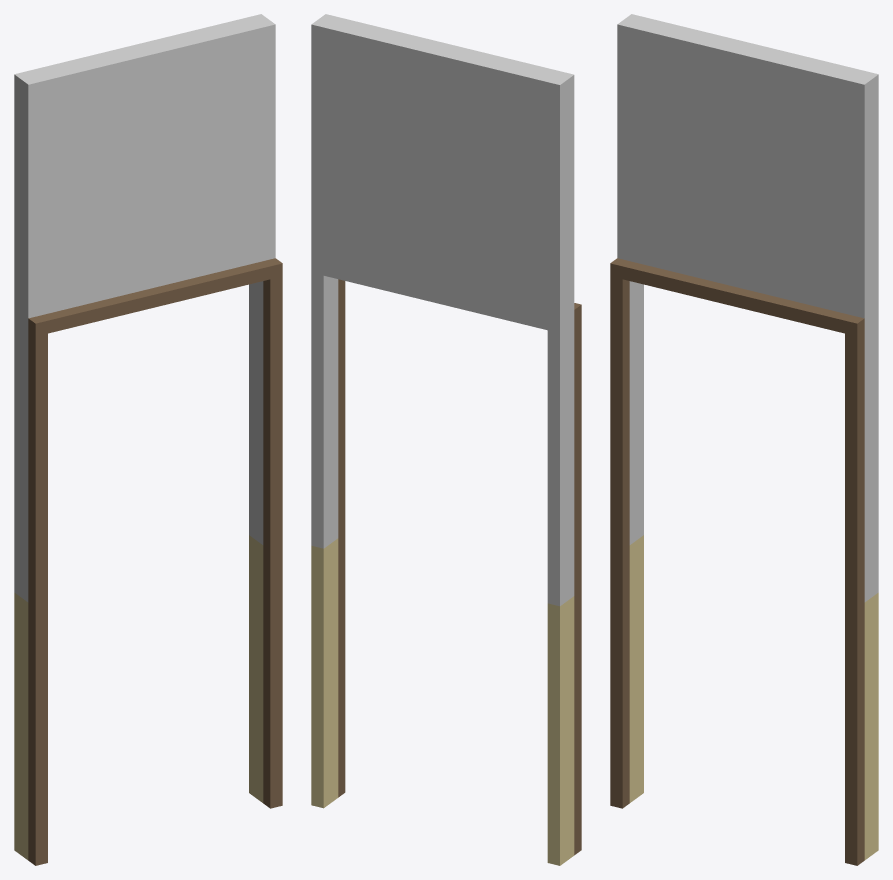
The model's file is Mesh_DoorHole2Colors_07.fbx.
3 renders of one model, left to right at view 1: azimuth 30°, elevation 25°; view 2: azimuth 150°, elevation 25°; view 3: azimuth 330°, elevation 25°, orthographic.
Parts seen in each view (by area): view 1: Mesh_DoorHole2Colors_07; view 2: Mesh_DoorHole2Colors_07; view 3: Mesh_DoorHole2Colors_07.
Part boxes in pixels (box(x1,y1,x2,y2)): Mesh_DoorHole2Colors_07: box(14, 14, 282, 865); Mesh_DoorHole2Colors_07: box(311, 14, 581, 865); Mesh_DoorHole2Colors_07: box(610, 14, 878, 865).
Size of the model in its own units: 1 by 3 by 0.15.
